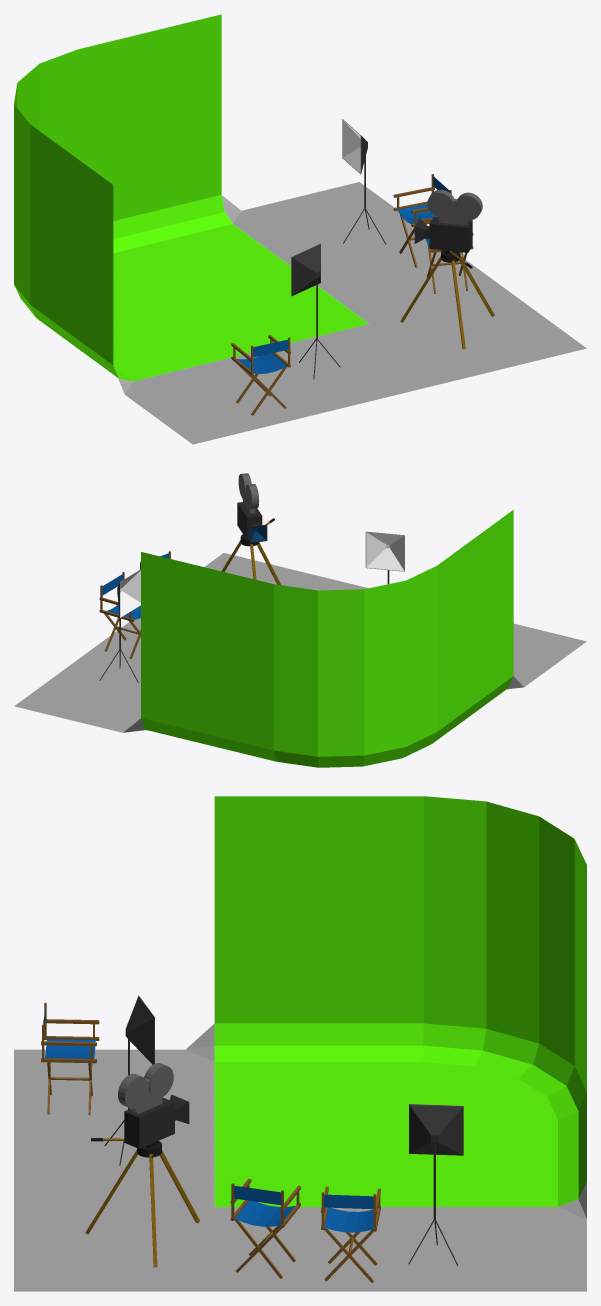
The model's file is small film studio.fbx.
The picture shows the model from 3 angles, top to bottom: view 1: azimuth 30°, elevation 25°; view 2: azimuth 150°, elevation 25°; view 3: azimuth 270°, elevation 25°; orthographic projection. The views are drawn at different scales.
Visible parts, largest first — view 1: Floor and wall, camera, chair1, floodlight.001, chair2, floodlight; view 2: Floor and wall, camera, floodlight.001, floodlight, chair2; view 3: Floor and wall, camera, floodlight, chair, chair2, chair1, floodlight.001.
Boxes of the visible parts, box(x1,y1,x2,y2) form: Floor and wall: box(14, 14, 586, 444); camera: box(400, 189, 494, 349); chair1: box(231, 335, 290, 415); floodlight.001: box(291, 243, 340, 379); chair2: box(393, 174, 451, 267); floodlight: box(342, 119, 385, 244); Floor and wall: box(14, 510, 586, 767); camera: box(221, 473, 281, 585); floodlight.001: box(365, 531, 404, 584); floodlight: box(99, 569, 140, 682); chair2: box(99, 572, 140, 659); Floor and wall: box(14, 796, 586, 1291); camera: box(85, 1063, 199, 1267); floodlight: box(408, 1104, 463, 1265); chair: box(230, 1178, 300, 1278); chair2: box(321, 1186, 380, 1282); chair1: box(41, 1002, 99, 1115); floodlight.001: box(104, 995, 154, 1165).
Bounding box in the file's own units: 2845 × 1389 × 2845.
7 materials, 7 textured.
